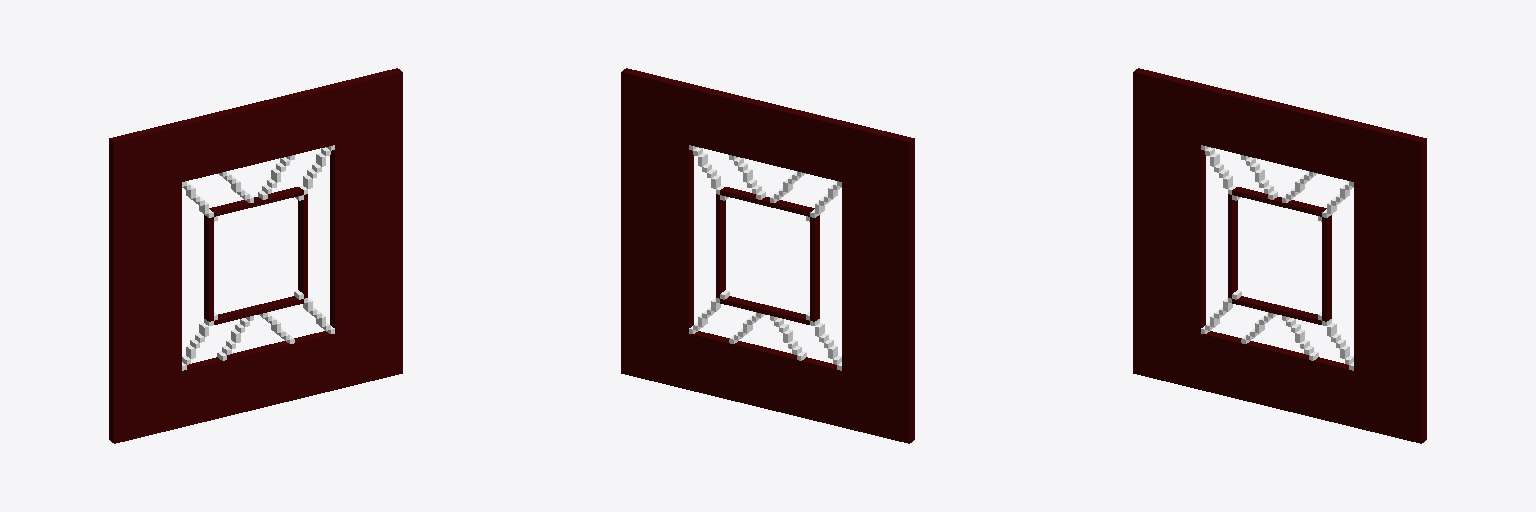
3 views of the same model, side by side, from view 1: azimuth 30°, elevation 25°; view 2: azimuth 150°, elevation 25°; view 3: azimuth 330°, elevation 25° (orthographic).
Visible parts, largest first — view 1: parede1; view 2: parede1; view 3: parede1.
Part boxes in pixels (left/top/right/bottom): parede1: left=109, top=68, right=402, bottom=443; parede1: left=621, top=68, right=914, bottom=443; parede1: left=1133, top=68, right=1426, bottom=443.
Bounding box in the file's own units: 64 × 64 × 2.
1 materials, 1 textured.